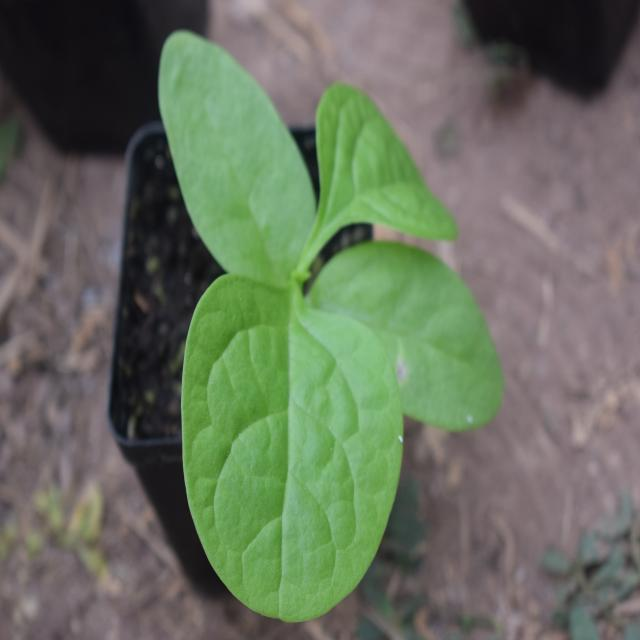Ceylon spinach: (150, 40, 483, 637)
